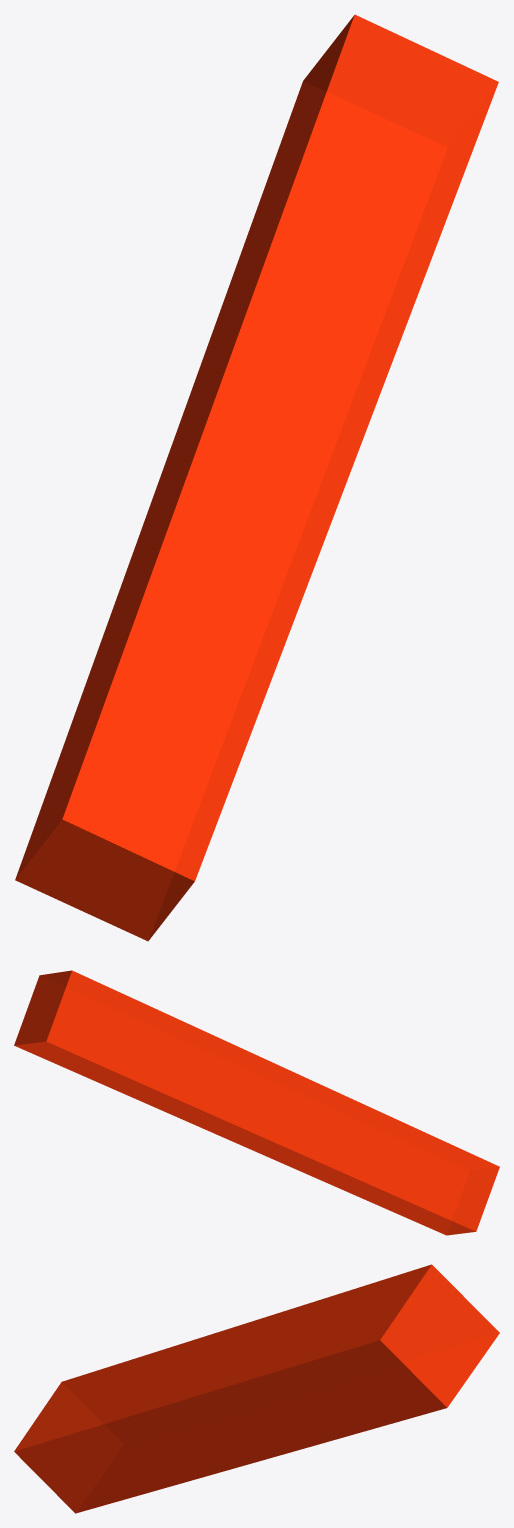
Rendered from Event_420107950_EBrechit_14.fbx.
3 renders of one model, top to bottom at view 1: azimuth 30°, elevation 25°; view 2: azimuth 150°, elevation 25°; view 3: azimuth 270°, elevation 25°, orthographic. The views are drawn at different scales.
Visible parts, largest first — view 1: Model; view 2: Model; view 3: Model.
Boxes of the visible parts, x1,y1,x2,y2 form: Model: (15,14,498,941); Model: (14,970,499,1235); Model: (14,1264,499,1513).
Bounding box in the file's own units: 0.3099 × 0.267 × 0.2922.
